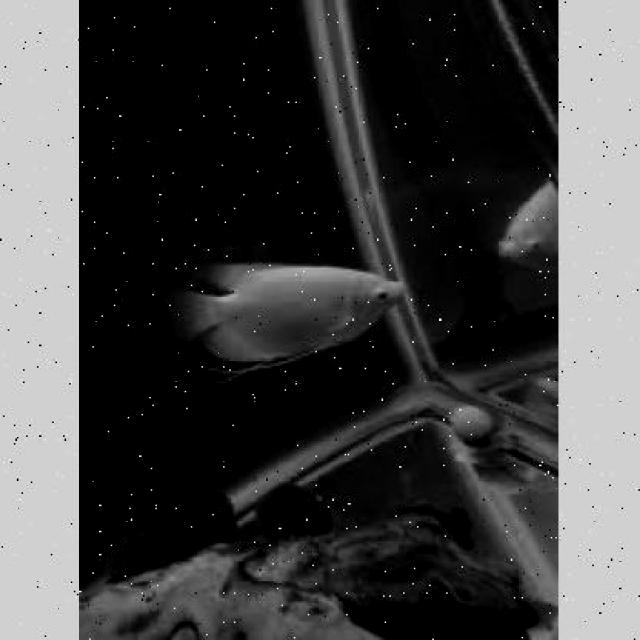gurame: (155, 251, 408, 386)
